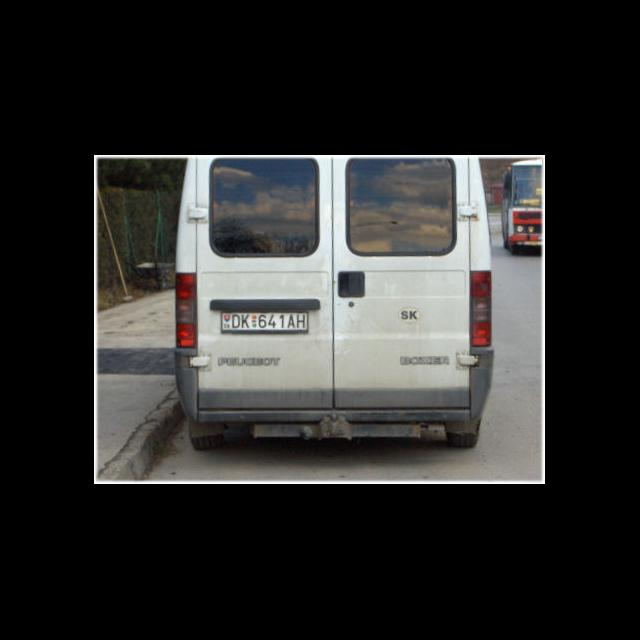Plate: (220, 310, 310, 334)
